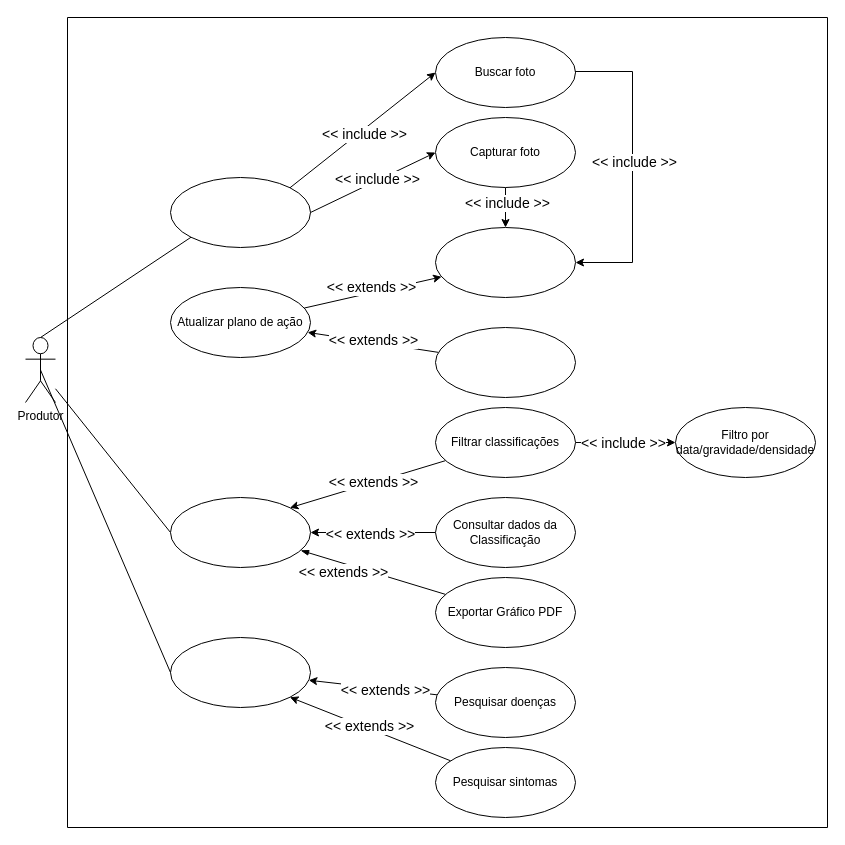
The diagram is 845 pixels wide and 845 high, and some of its shapes have lost their labels. Each missing label, with the centre of its shape:
"Acessar biblioteca de sintomas" belongs at (240,672).
"Classificar foto" belongs at (505,262).
"Exportar Relatório PDF" belongs at (505,362).
"Iniciar Análise" belongs at (240,212).
"Visualizar Gráfico Espacial/Temporal" belongs at (240,532).
